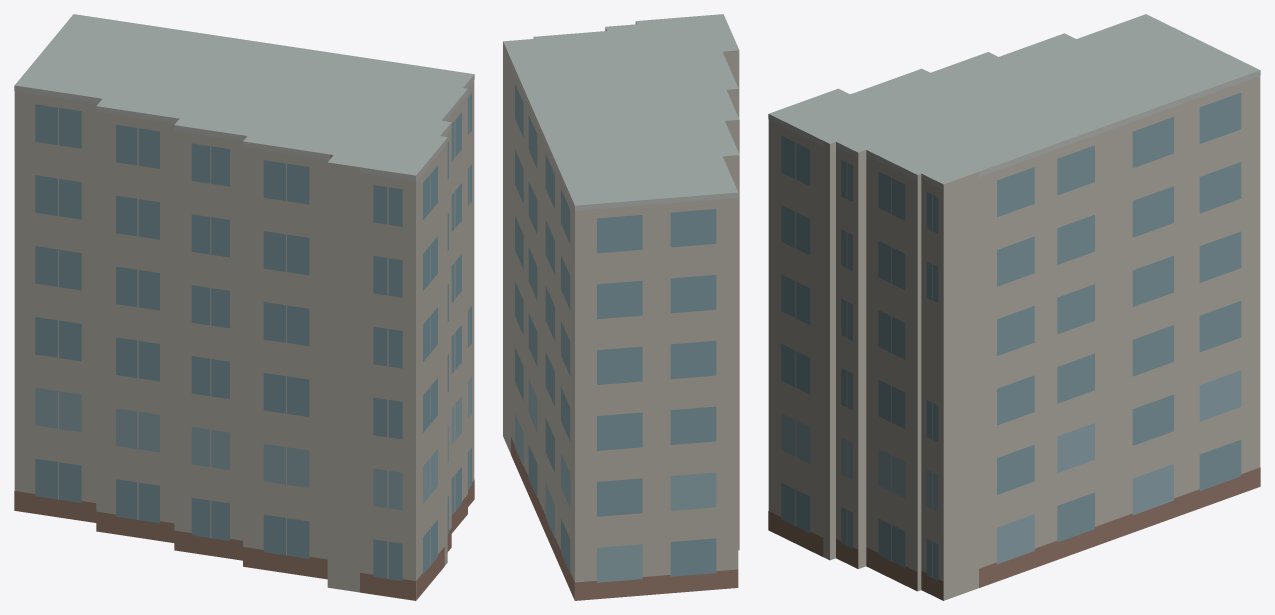
The model's file is survey-upis-32951002.glb.
3 views of the same model, side by side, from view 1: azimuth 30°, elevation 25°; view 2: azimuth 150°, elevation 25°; view 3: azimuth 270°, elevation 25° (orthographic). The views are drawn at different scales.
Parts seen in each view (by area): view 1: survey-upis-32951002.tmp; view 2: survey-upis-32951002.tmp; view 3: survey-upis-32951002.tmp.
Boxes of the visible parts, <box> form: survey-upis-32951002.tmp: <box>14,14,474,600</box>; survey-upis-32951002.tmp: <box>503,14,739,600</box>; survey-upis-32951002.tmp: <box>768,14,1260,600</box>.
Size of the model in its own units: 16.07 by 18.3 by 19.6.
